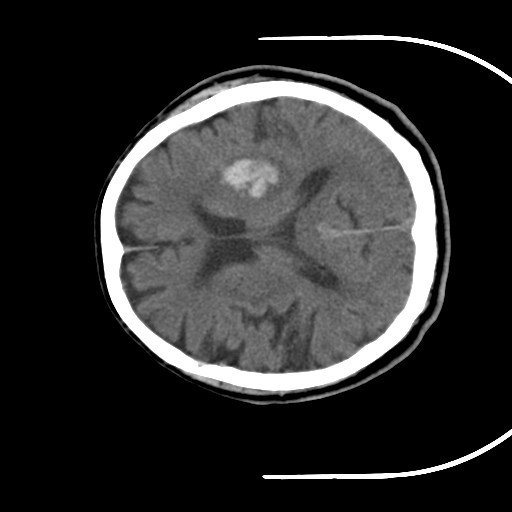a: (206, 146, 297, 210)
